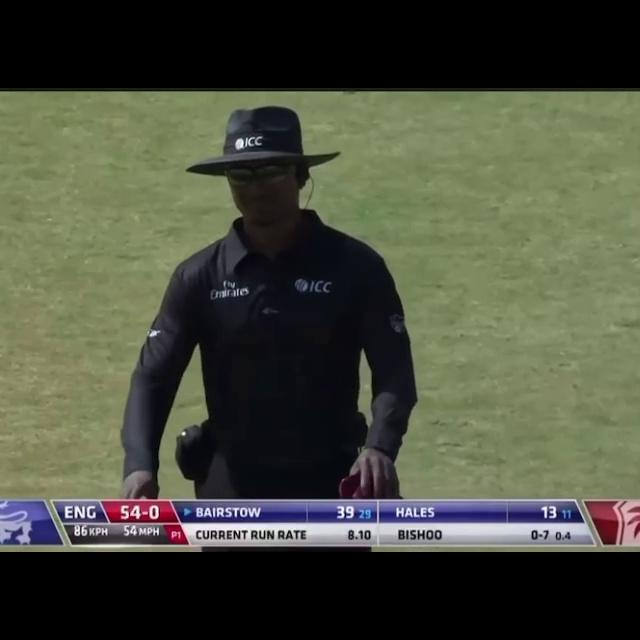umpire: (117, 106, 454, 512)
